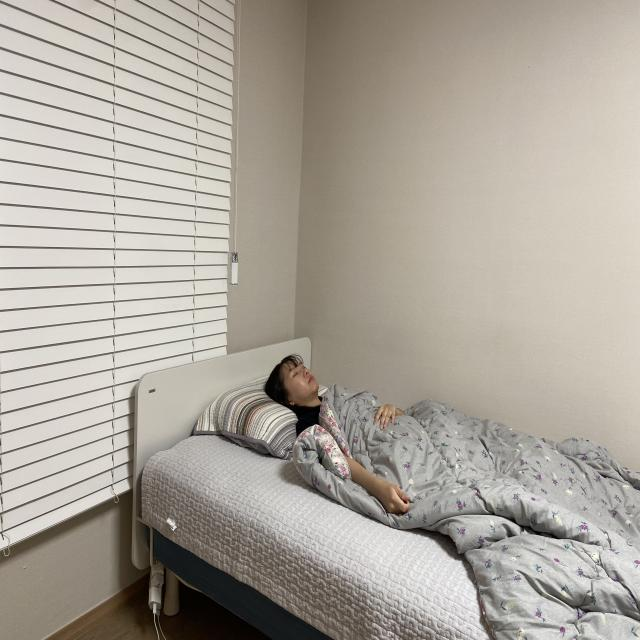sleeping-person: (255, 326, 640, 632)
